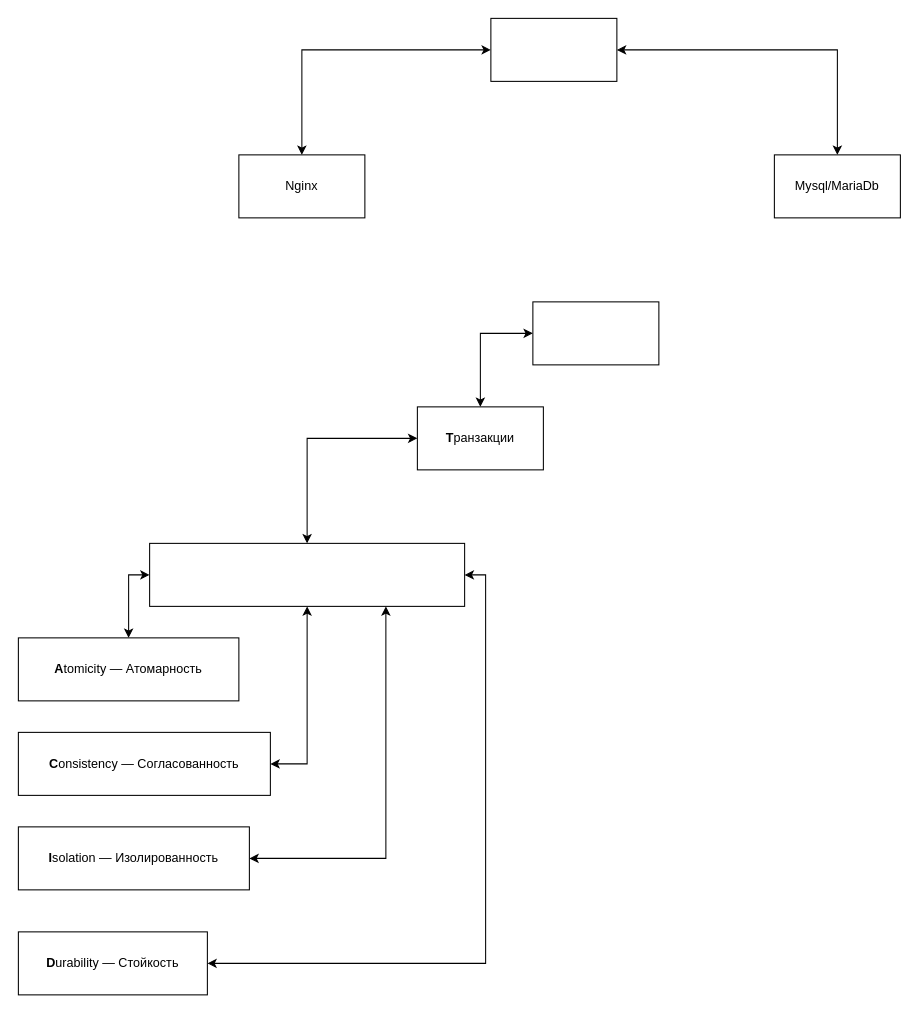
This 919x1013 diagram has some shape labels left out. Here are the shapes that lost their labels. From the top down, the centre of each, then its label:
At (x=553, y=49): "PHP".
At (x=595, y=333): "СУБД".
At (x=307, y=574): "ACID (требования к транзакционной системе)".
